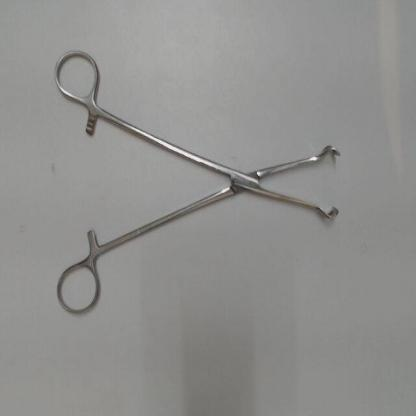8 Babcock Tissue Forceps: (50, 43, 346, 324)
